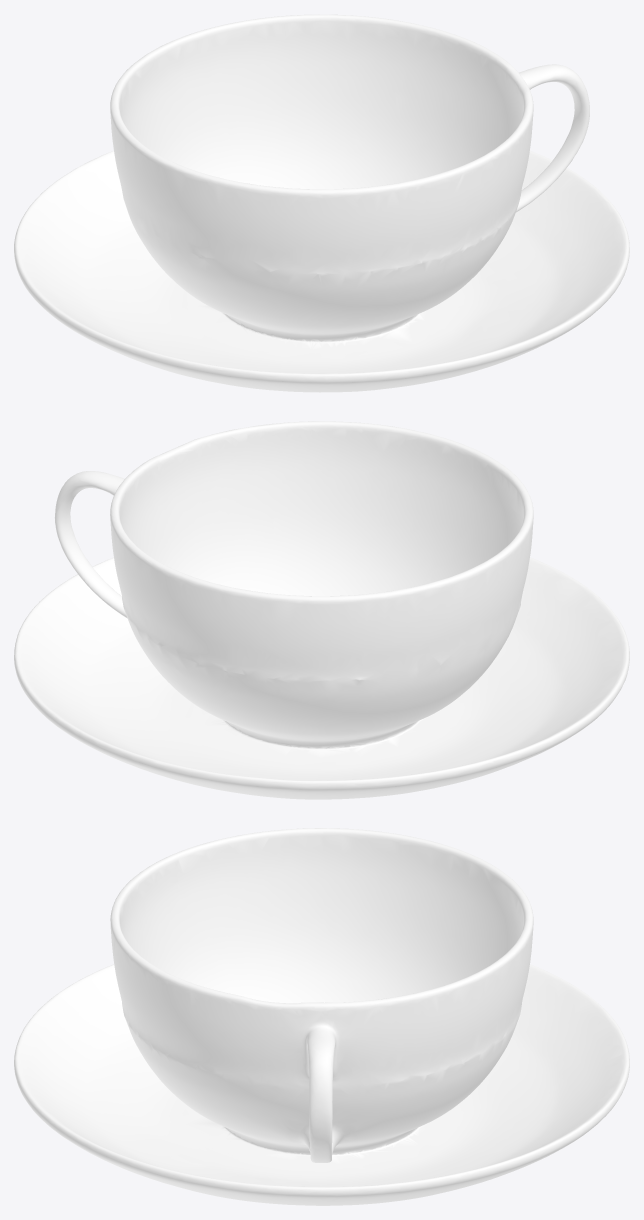
Rendered from cup.glb.
3 views of the same model, one above another, from view 1: azimuth 30°, elevation 25°; view 2: azimuth 150°, elevation 25°; view 3: azimuth 270°, elevation 25° (orthographic).
Size of the model in its own units: 1.9 by 0.7796 by 1.9.
Materials: 1 (1 with a texture image).
